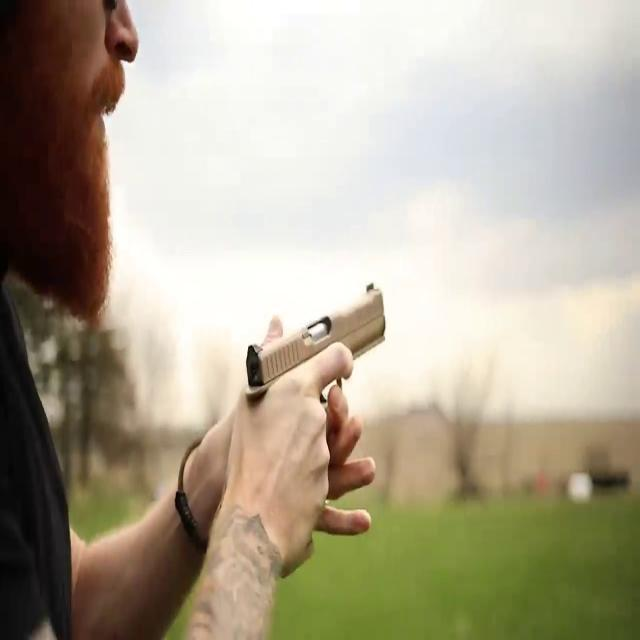Handgun: (245, 277, 400, 498)
